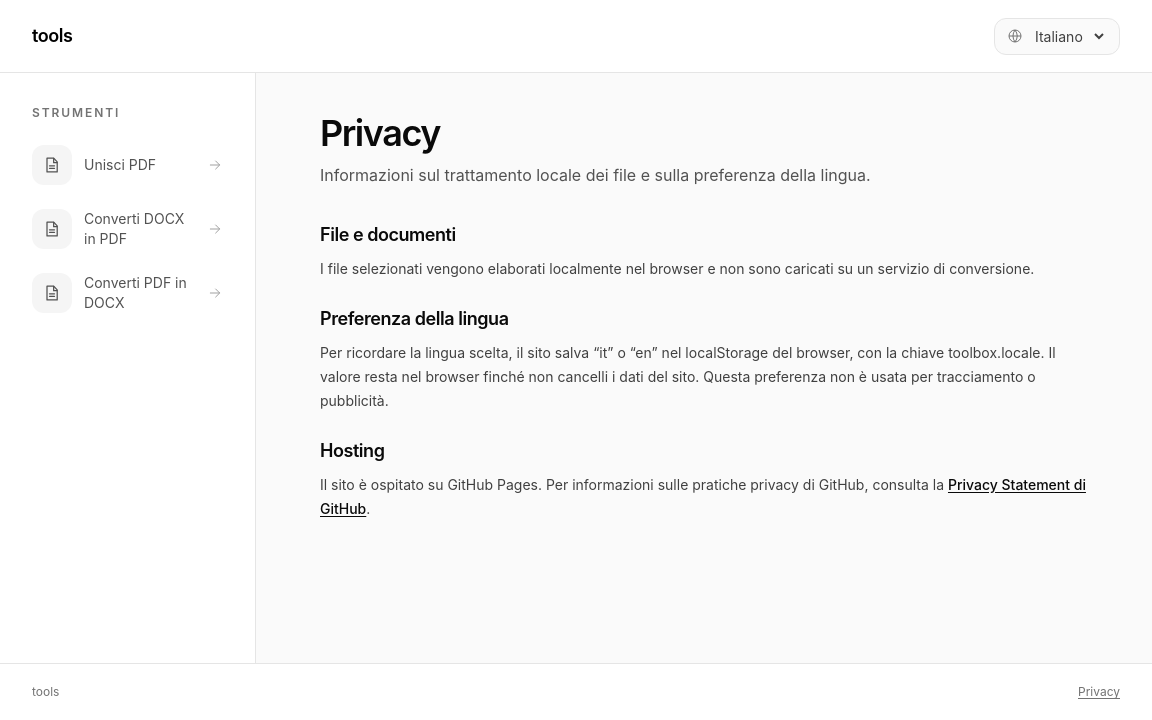
app shell › explains local language preference storage on the privacy page
Check: the heading "Privacy" is shown, box x1=320 y1=111 x2=440 y2=155
Check: the link to "https://docs.github.com/en/site-policy/privacy-policies/github-general-privacy-statement" is shown, box x1=320 y1=476 x2=1086 y2=517
Select "English" in the dropdown with id "language-select": (1069, 36) x1=1031 y1=18 x2=1107 y2=54
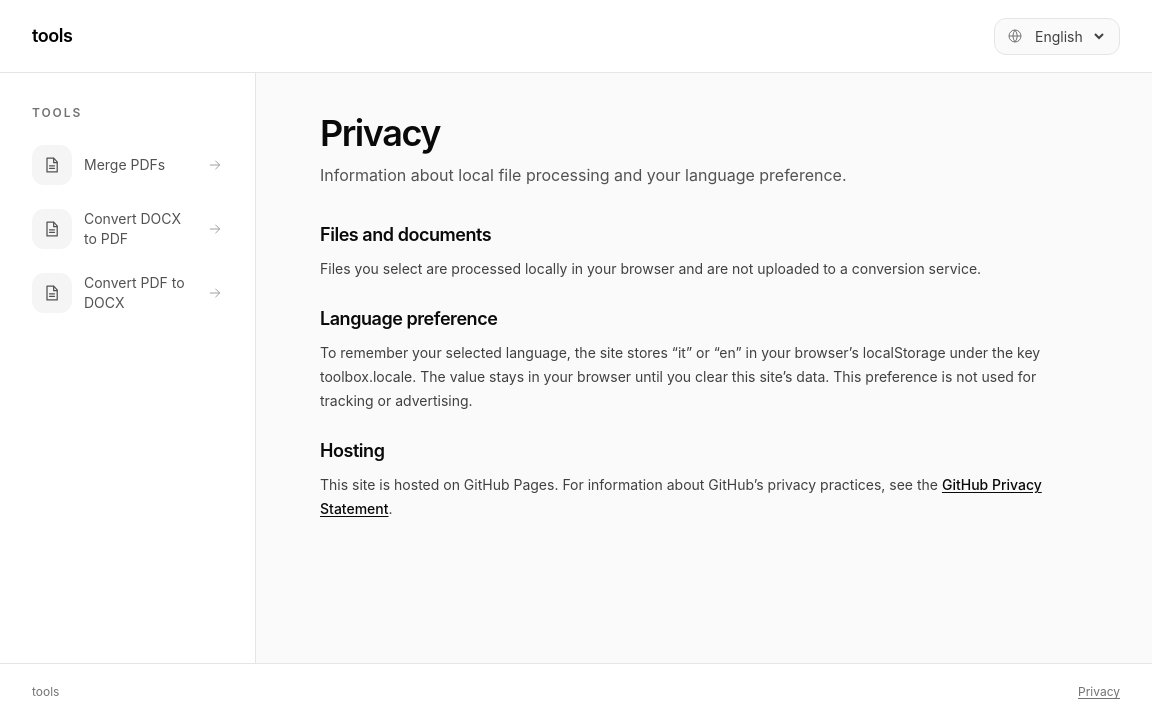
Check: the heading "Privacy" is shown, box x1=320 y1=111 x2=440 y2=155
Check: the text "language preference" is shown, box x1=320 y1=165 x2=847 y2=185
Check: the text "This site is hosted on GitHub Pages." is shown, box x1=320 y1=476 x2=942 y2=493
